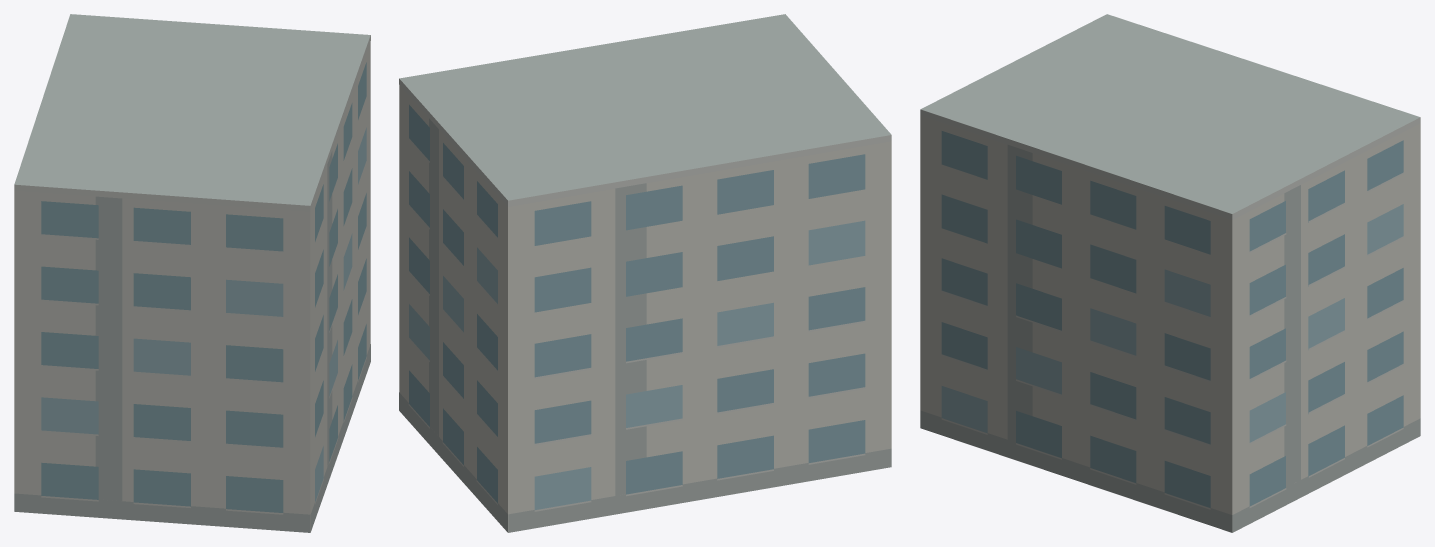
Rendered from survey-upis-32807194.glb.
The picture shows the model from 3 angles, left to right: view 1: azimuth 30°, elevation 25°; view 2: azimuth 150°, elevation 25°; view 3: azimuth 270°, elevation 25°; orthographic projection. The views are drawn at different scales.
Visible parts, largest first — view 1: survey-upis-32807194.tmp; view 2: survey-upis-32807194.tmp; view 3: survey-upis-32807194.tmp.
Part boxes in pixels (x1,y1,x2,y2): survey-upis-32807194.tmp: (14,14,370,532); survey-upis-32807194.tmp: (399,14,891,532); survey-upis-32807194.tmp: (920,14,1420,532).
Size of the model in its own units: 17.64 by 13.1 by 18.64.
